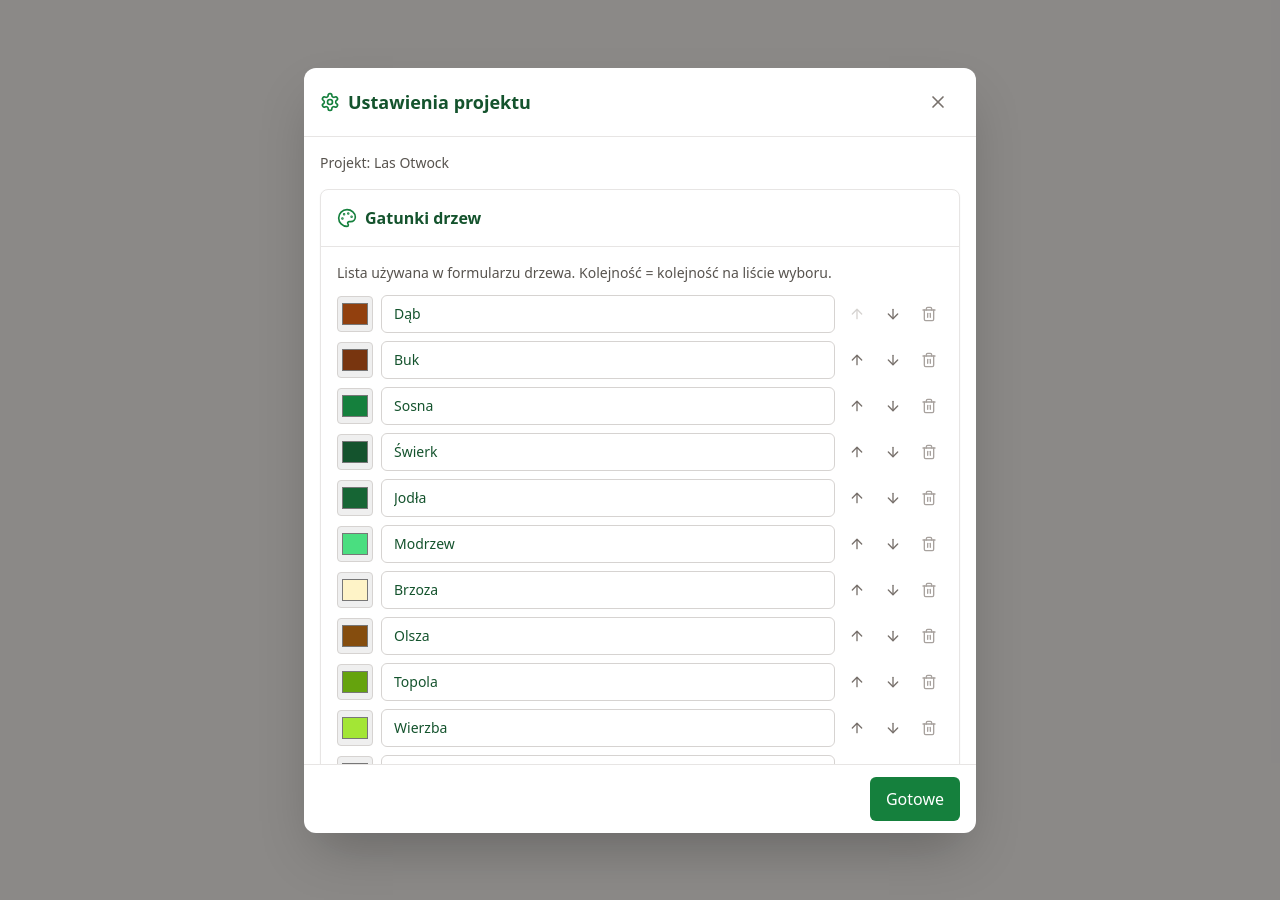
Test: SettingsModal › should persist species edits to the active project in Dexie
The width and height of the screenshot is (1280, 900).
Click the button named "Usuń gatunek Dąb" at (929,314), box [915,300,943,328]
(page scrolled)
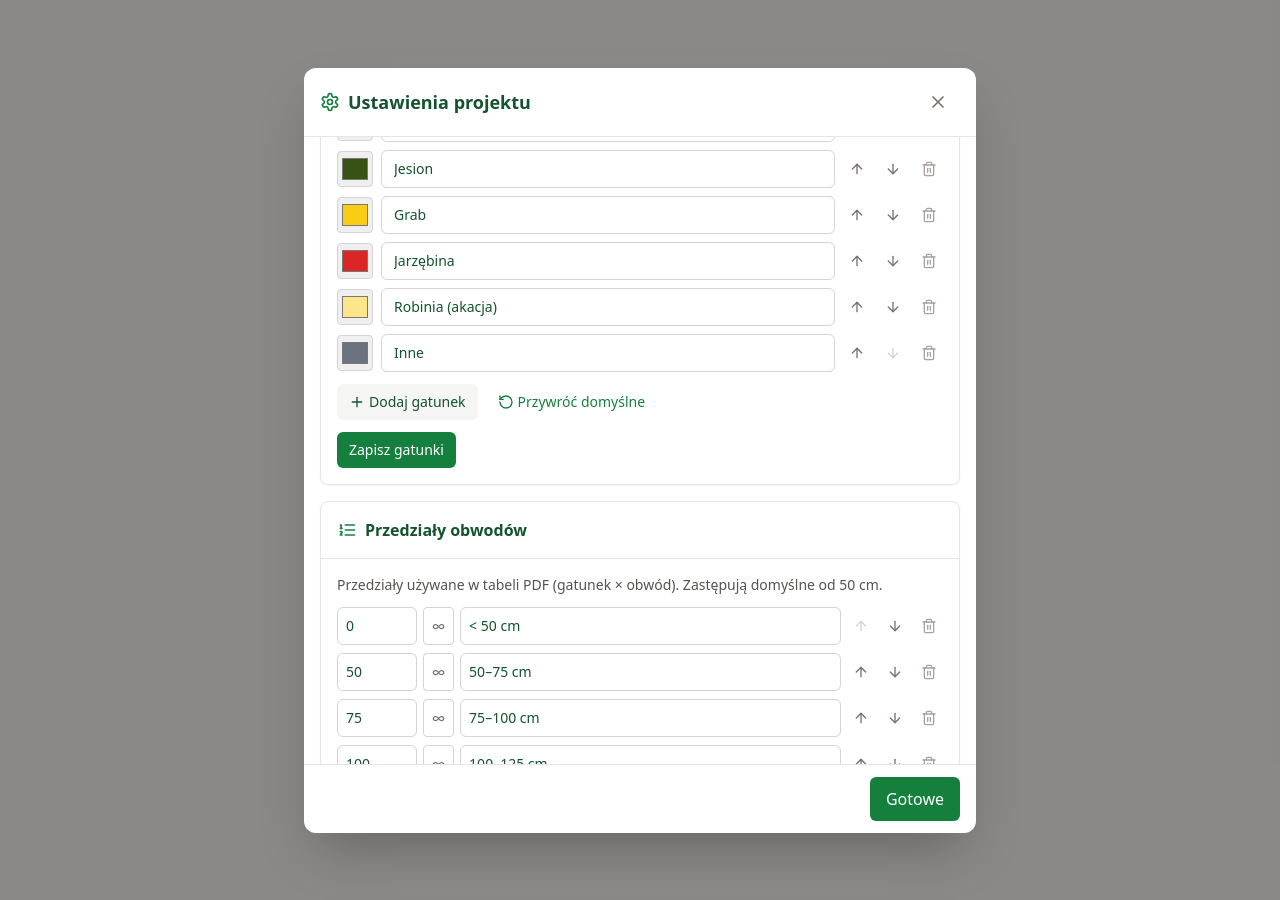
Click the button with test id "species-save" at (396,450), box [337,432,456,468]
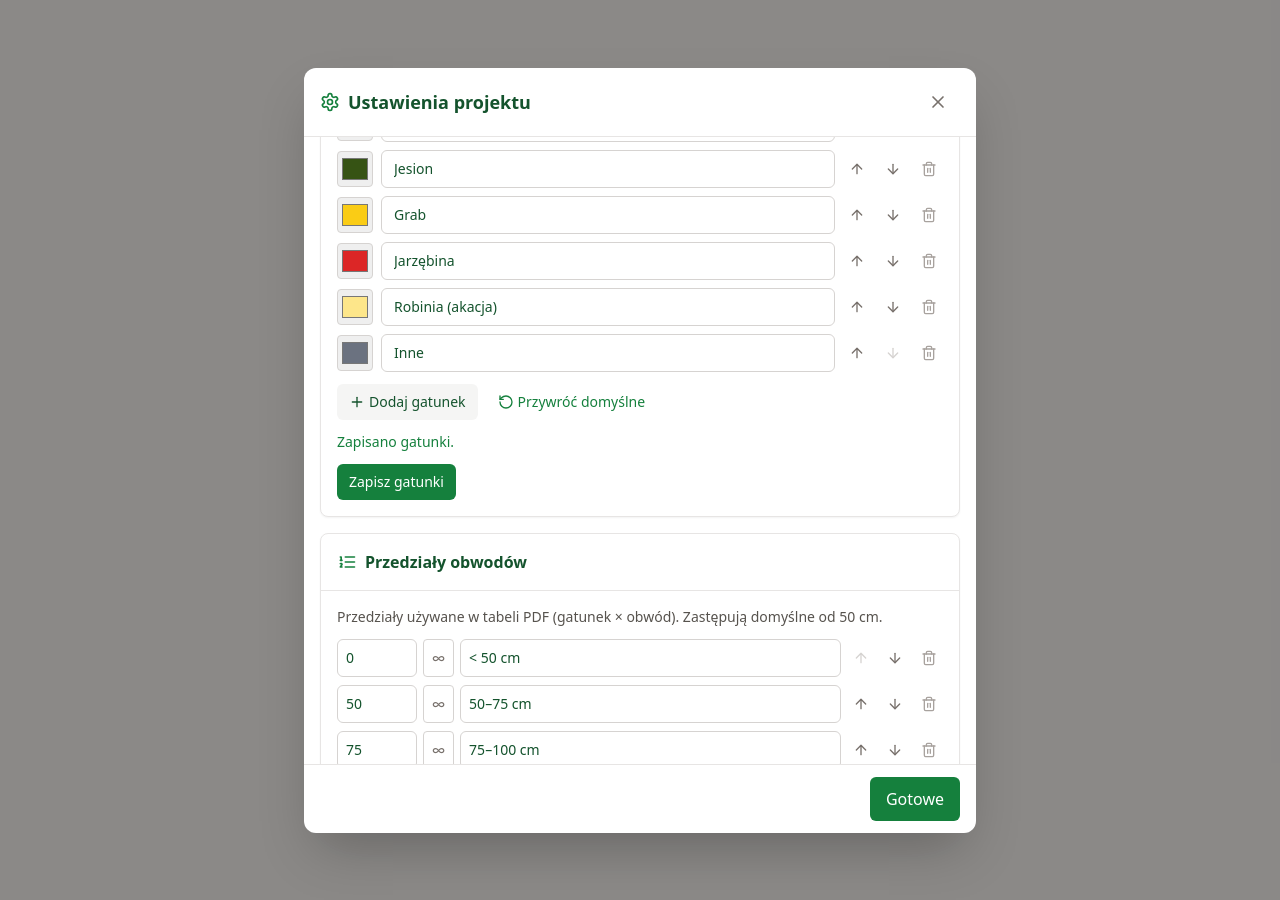
Expected: the message "Zapisano gatunki." is shown, [337,432,454,450]
